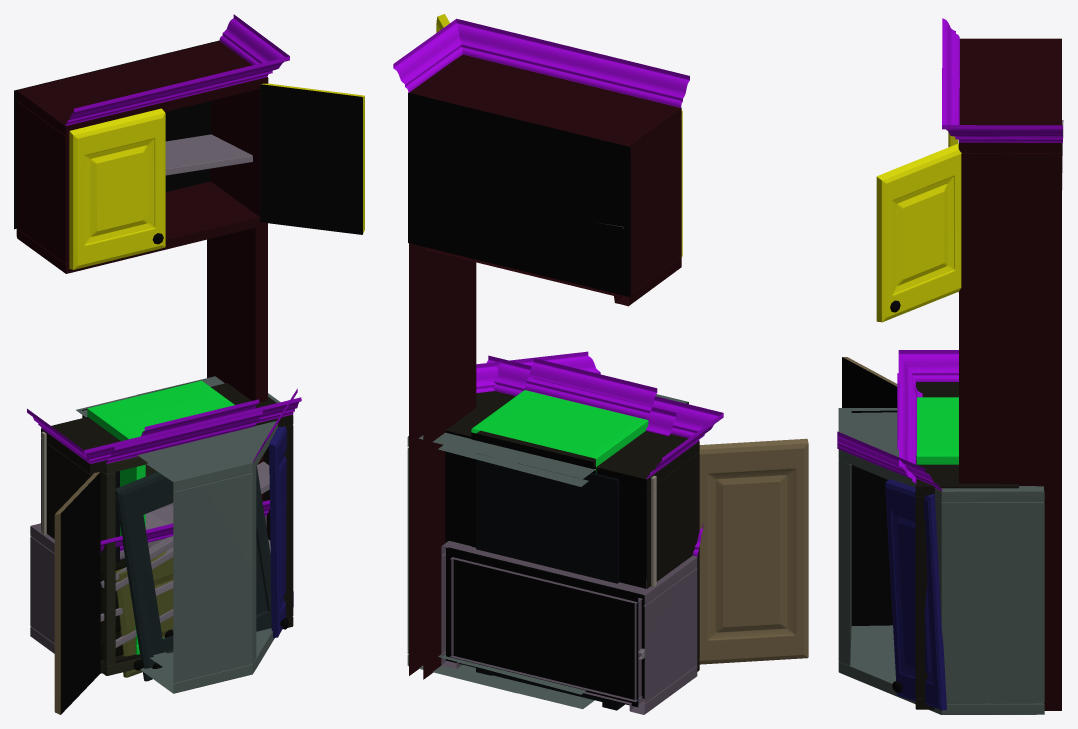
Rendered from upper cabinets.fbx.
3 renders of one model, left to right at view 1: azimuth 30°, elevation 25°; view 2: azimuth 150°, elevation 25°; view 3: azimuth 270°, elevation 25°, orthographic. The views are drawn at different scales.
Parts seen in each view (by area): view 1: upper_cabinet_2, upper_cabinet_4, upper_cabinet_7, upper_cabinet_5, upper_cabinet_1, upper_cabinet_3, upper_cabinet_6; view 2: upper_cabinet_2, upper_cabinet_7, upper_cabinet_3, upper_cabinet_6, upper_cabinet_1, upper_cabinet_4; view 3: upper_cabinet_2, upper_cabinet_4, upper_cabinet_7, upper_cabinet_1.
Boxes of the visible parts, <box> form: upper_cabinet_2: <box>14,14,364,501</box>; upper_cabinet_4: <box>76,376,297,693</box>; upper_cabinet_7: <box>27,383,301,714</box>; upper_cabinet_5: <box>99,410,271,681</box>; upper_cabinet_1: <box>87,380,259,654</box>; upper_cabinet_3: <box>30,500,269,659</box>; upper_cabinet_6: <box>115,471,173,677</box>; upper_cabinet_2: <box>393,14,689,679</box>; upper_cabinet_7: <box>445,355,808,698</box>; upper_cabinet_3: <box>441,524,703,714</box>; upper_cabinet_6: <box>476,378,676,710</box>; upper_cabinet_1: <box>471,358,657,554</box>; upper_cabinet_4: <box>407,351,688,709</box>; upper_cabinet_2: <box>876,18,1063,710</box>; upper_cabinet_4: <box>837,408,1044,714</box>; upper_cabinet_7: <box>842,350,1018,709</box>; upper_cabinet_1: <box>899,377,958,464</box>.
Size of the model in its own units: 150 by 254 by 85.56.
